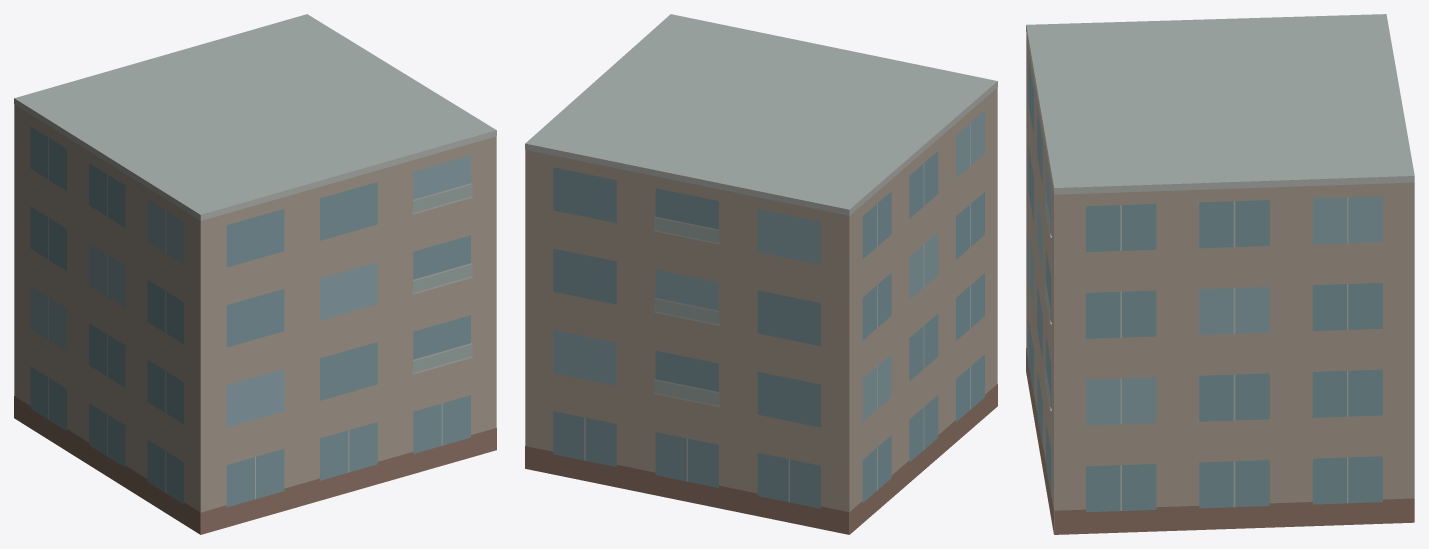
The model's file is survey-upis-32970672.glb.
The picture shows the model from 3 angles, left to right: view 1: azimuth 30°, elevation 25°; view 2: azimuth 150°, elevation 25°; view 3: azimuth 270°, elevation 25°; orthographic projection. The views are drawn at different scales.
Parts seen in each view (by area): view 1: survey-upis-32970672.tmp; view 2: survey-upis-32970672.tmp; view 3: survey-upis-32970672.tmp.
Boxes of the visible parts, x1,y1,x2,y2 form: survey-upis-32970672.tmp: [14, 14, 496, 534]; survey-upis-32970672.tmp: [525, 14, 997, 534]; survey-upis-32970672.tmp: [1026, 14, 1414, 534].
Size of the model in its own units: 13.79 by 12.8 by 13.01.
